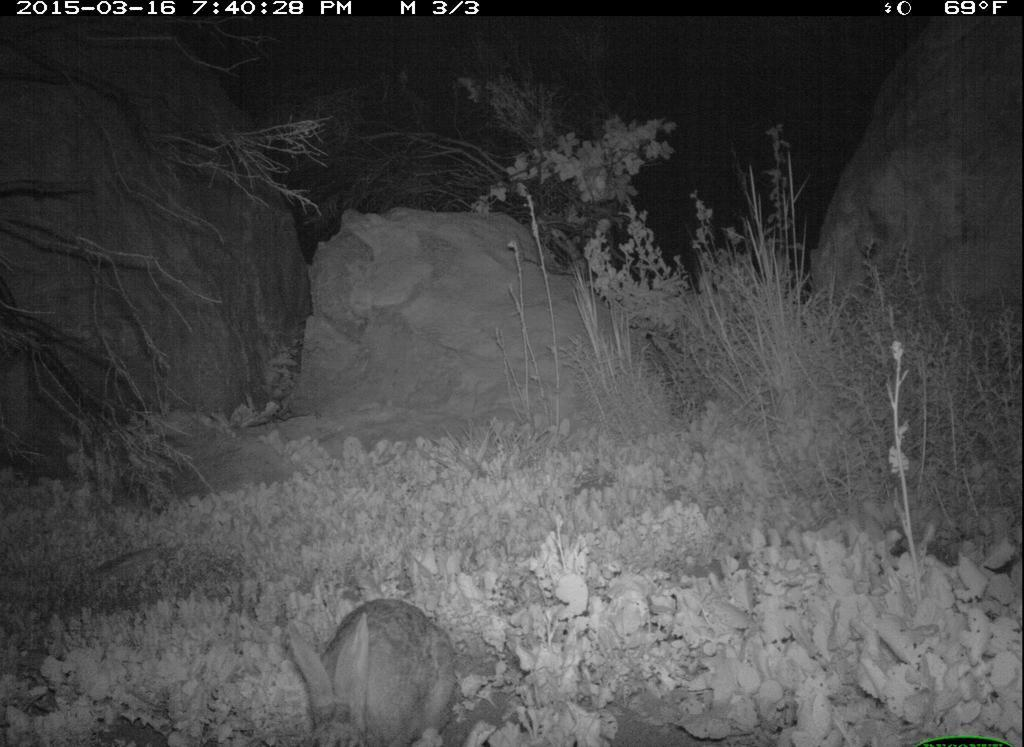rabbit: (283, 592, 465, 745)
